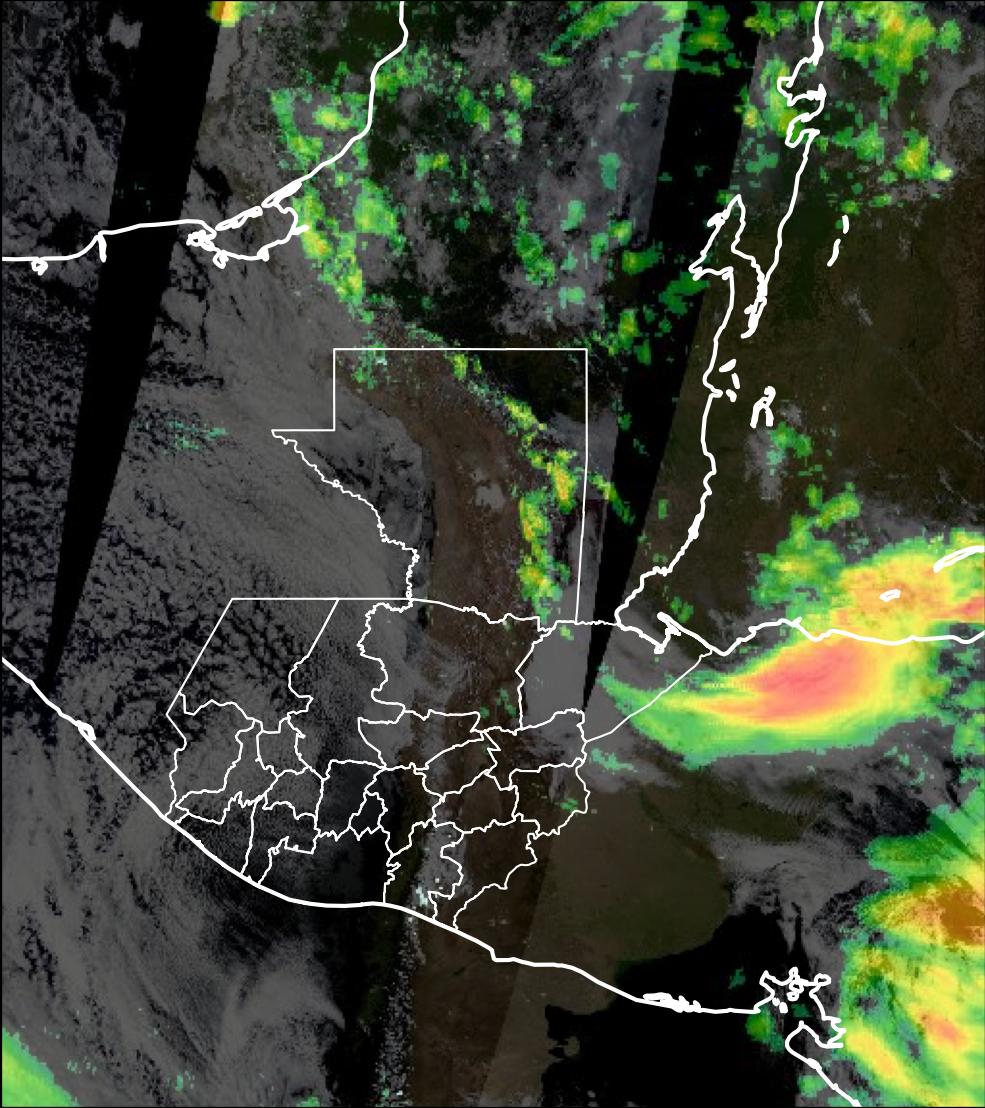precipitacion: (683, 653, 926, 741), (880, 872, 985, 966)
